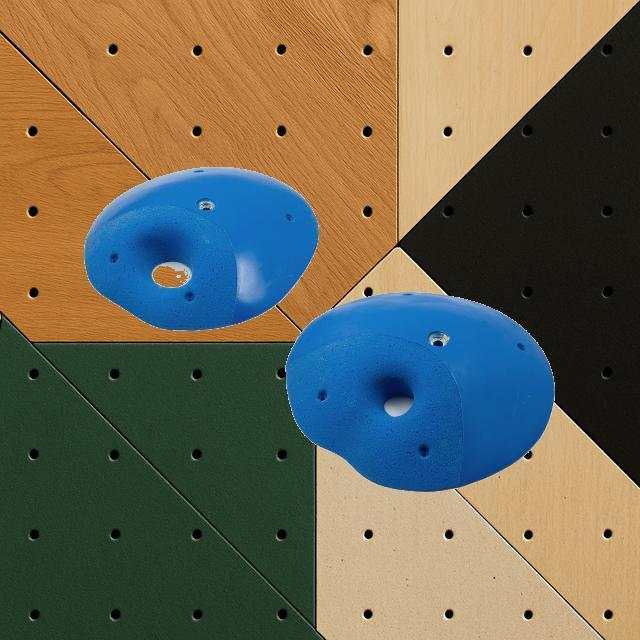Pocket: (284, 290, 556, 492), (82, 165, 320, 331)
